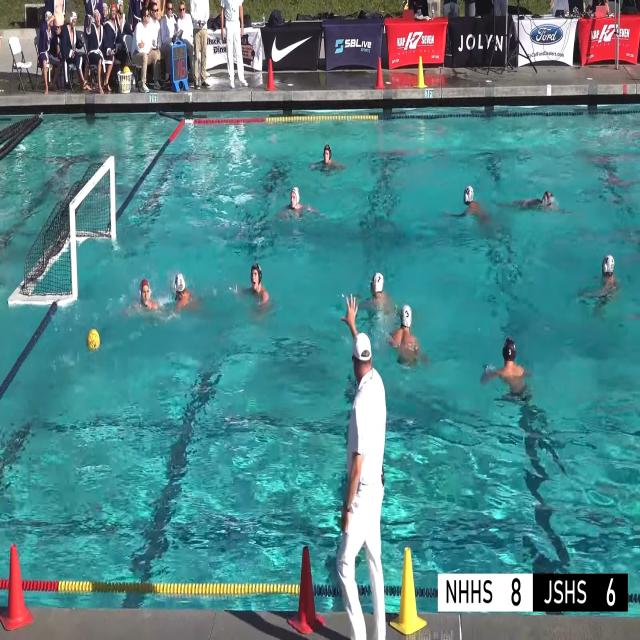ball: (86, 328, 100, 350), (122, 66, 130, 74)
